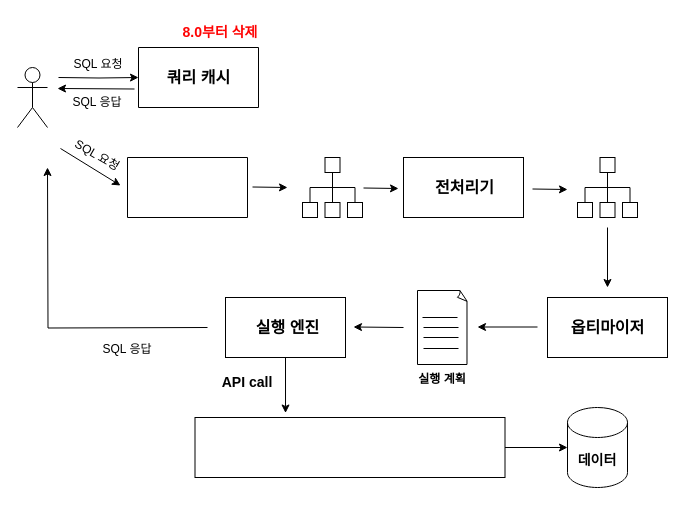
Image size: 685x505. Some labels were removed from this diagram. Each missing label, with the centre of its shape:
"Actor" goes at (32,97).
"스토리지 엔진" goes at (349,447).
"쿼리 파서" goes at (187,187).
